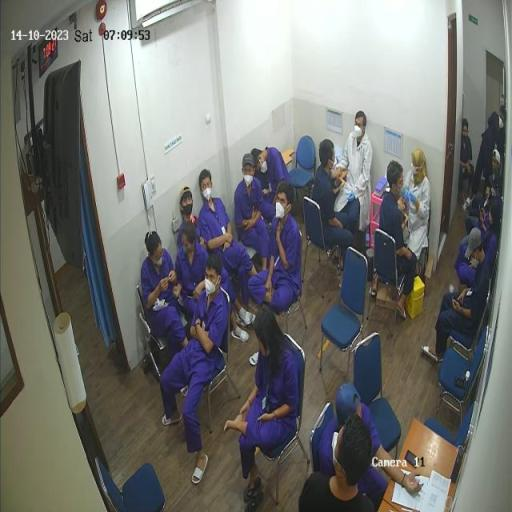person: (161, 255, 229, 484), (225, 306, 299, 495), (319, 384, 425, 509), (179, 188, 252, 344), (422, 227, 491, 362), (200, 170, 260, 308), (142, 232, 190, 399), (371, 160, 418, 321), (300, 414, 375, 512), (249, 182, 302, 319), (314, 140, 355, 289), (335, 112, 373, 269), (467, 106, 508, 207), (235, 155, 269, 272), (456, 200, 500, 289), (404, 149, 432, 279), (174, 221, 210, 317), (461, 170, 503, 251), (252, 148, 292, 212), (470, 151, 503, 218), (461, 121, 475, 212)
